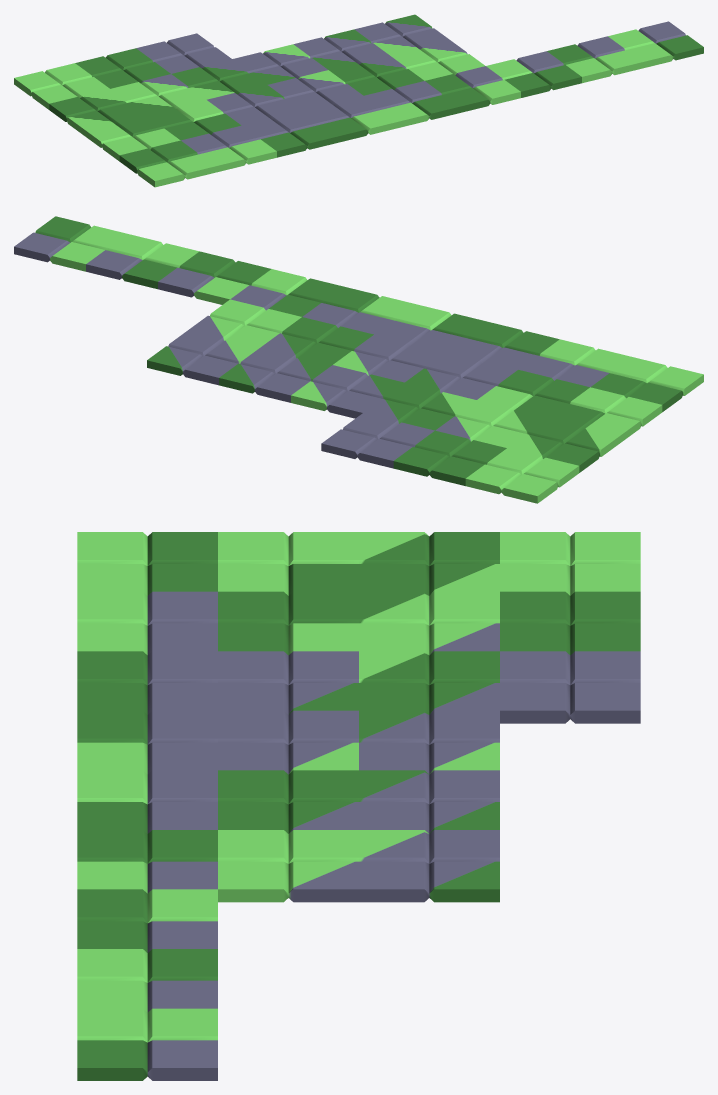
File: GroundModules_Offset.fbx
3 renders of one model, top to bottom at view 1: azimuth 30°, elevation 25°; view 2: azimuth 150°, elevation 25°; view 3: azimuth 270°, elevation 25°, orthographic. The views are drawn at different scales.
Visible parts, largest first — view 1: Grass_Tree_Side, Tree_CG_Side, Crystal_TG_Side, Grass_TC_Side, Crystal_Grass_Side, Crystal_Tree_Side, Crystal_GT_Side, Tree_GC_Side, Grass_CT_Side, Grass_Tree_Corner, Grass_Full, Grass_Tree_OnPass (+12 smaller); view 2: Grass_Full, Tree_Full, Crystal_Full, Crystal_GT_OnPass, Tree_GC_Side, Tree_Crystal_OnPass, Tree_CG_Side, Grass_CT_Side, Grass_Crystal_OnPass, Grass_Tree_Corner, Grass_Tree_OnPass, Grass_Tree_Side (+12 smaller); view 3: Crystal_GT_OnPass, Grass_Crystal_Corner, Crystal_Full, Tree_GC_Side, Tree_Full, Tree_Grass_Corner, Grass_TC_OnPass, Grass_Crystal_OnPass, Crystal_Grass_Corner, Crystal_Grass_Side, Crystal_TG_Side, Grass_Tree_OnPass (+12 smaller).
Boxes of the visible parts, x1,y1,x2,y2 form: Grass_Tree_Side: (119,140,215,187); Tree_CG_Side: (547,36,642,83); Crystal_TG_Side: (303,96,398,142); Grass_TC_Side: (425,66,520,112); Crystal_Grass_Side: (181,125,276,172); Crystal_Tree_Side: (242,110,337,157); Crystal_GT_Side: (364,81,459,127); Tree_GC_Side: (608,21,703,68); Grass_CT_Side: (486,51,581,97); Grass_Tree_Corner: (84,114,180,161); Grass_Full: (14,63,109,109); Grass_Tree_OnPass: (49,89,144,135); Grass_Full: (465,448,579,503); Tree_Full: (393,430,506,485); Crystal_Full: (321,413,434,468); Crystal_GT_OnPass: (147,330,260,385); Tree_GC_Side: (14,216,127,271); Tree_Crystal_OnPass: (219,347,331,402); Tree_CG_Side: (86,234,199,289); Grass_CT_Side: (158,251,270,304); Grass_Crystal_OnPass: (291,365,404,418); Grass_Tree_Corner: (549,387,662,442); Grass_Tree_OnPass: (507,418,620,472); Grass_Tree_Side: (591,357,703,411); Crystal_GT_OnPass: (359,830,499,902); Grass_Crystal_Corner: (218,830,358,902); Crystal_Full: (500,651,640,723); Tree_GC_Side: (77,1008,217,1080); Tree_Full: (500,591,640,655); Tree_Grass_Corner: (218,591,358,655); Grass_TC_OnPass: (359,591,499,655); Grass_Crystal_OnPass: (359,710,499,774); Crystal_Grass_Corner: (218,710,358,774); Crystal_Grass_Side: (77,591,217,655); Crystal_TG_Side: (77,710,217,774); Grass_Tree_OnPass: (359,532,499,595).
Bounding box in the file's own units: 1800 × 20 × 800.
